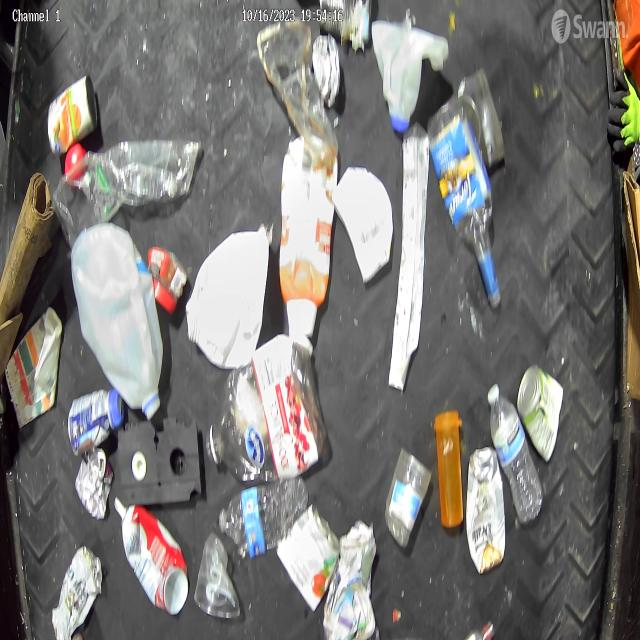can: (119, 495, 183, 608), (462, 439, 511, 577), (324, 514, 374, 636), (512, 362, 568, 466), (49, 539, 103, 640), (42, 74, 96, 161), (69, 442, 116, 521), (148, 239, 190, 324)
milk_jug: (68, 220, 164, 418), (372, 12, 449, 147)
plastic_bottle: (205, 328, 328, 477), (485, 375, 551, 526), (213, 472, 309, 560)
